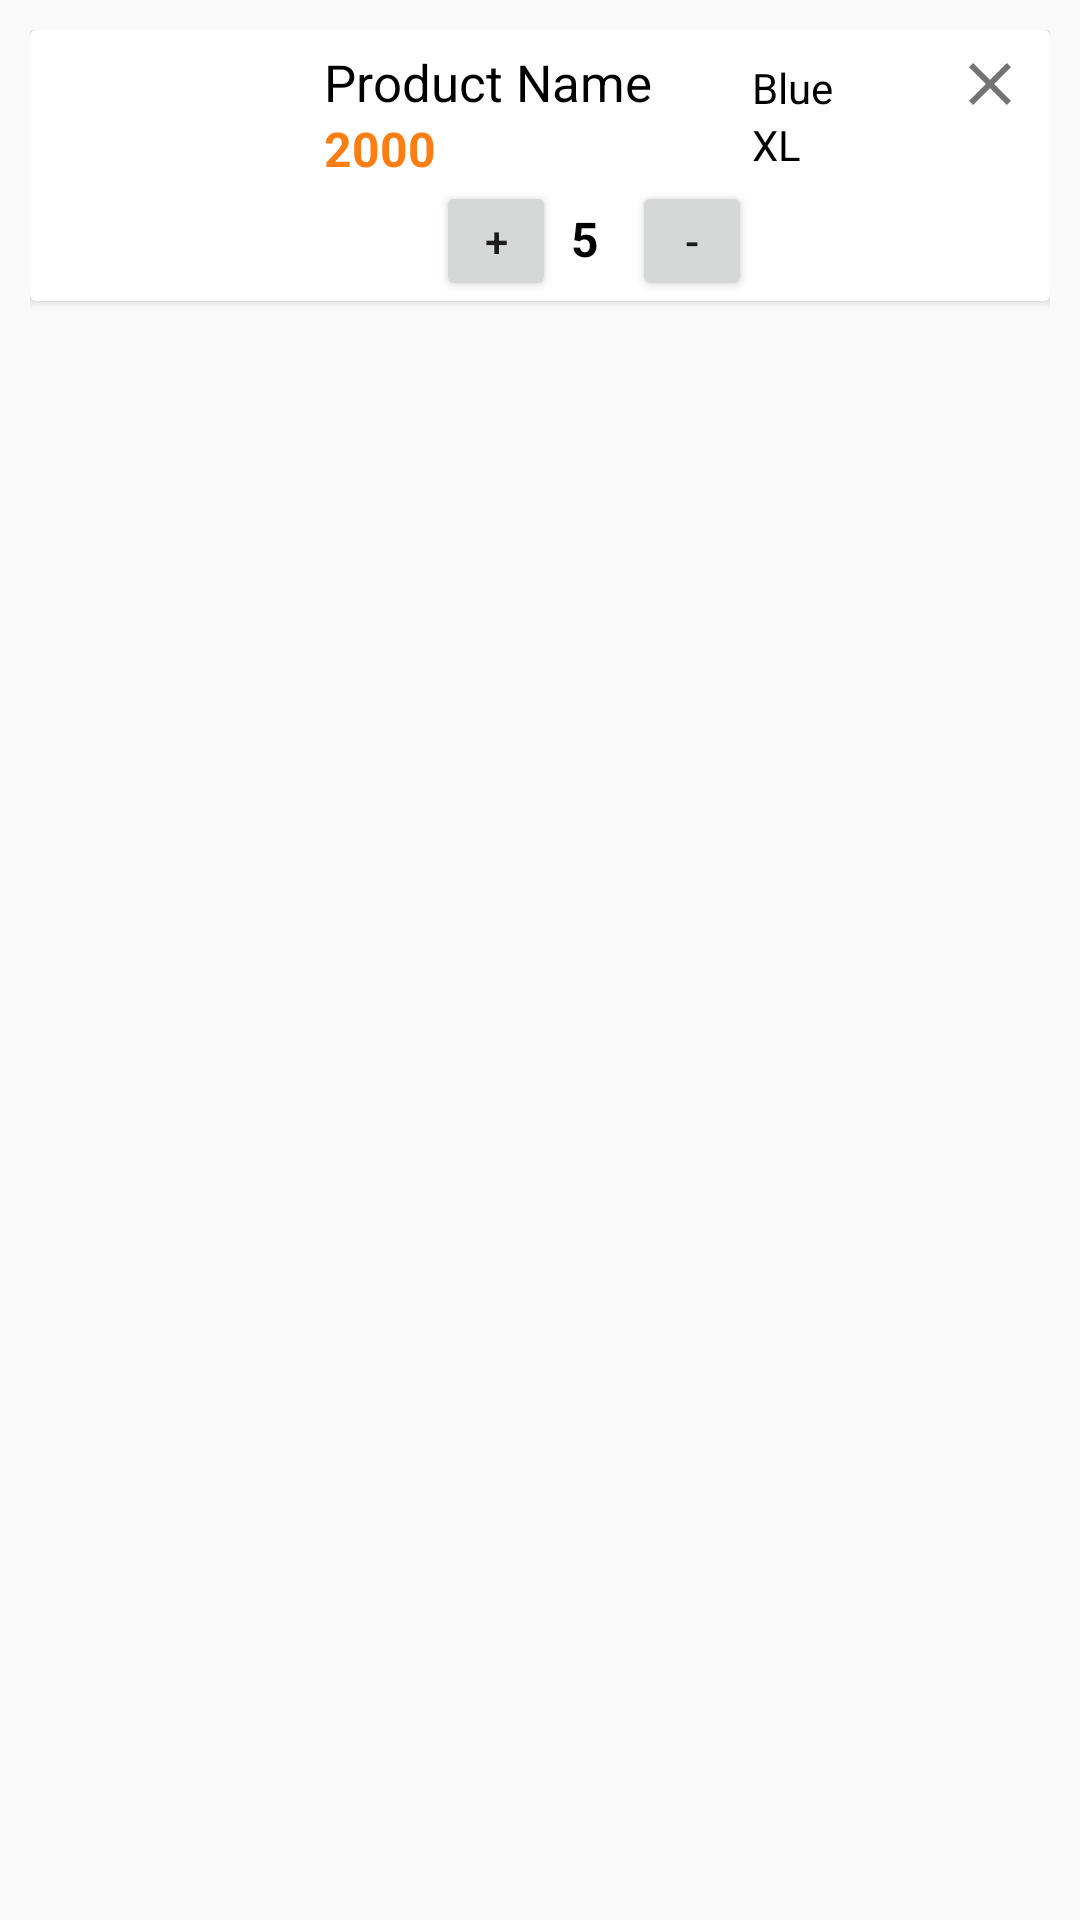

Screen size 1080px×1920px. Icon name, then its center in pixels as (x,y):
cross: (990,84)
